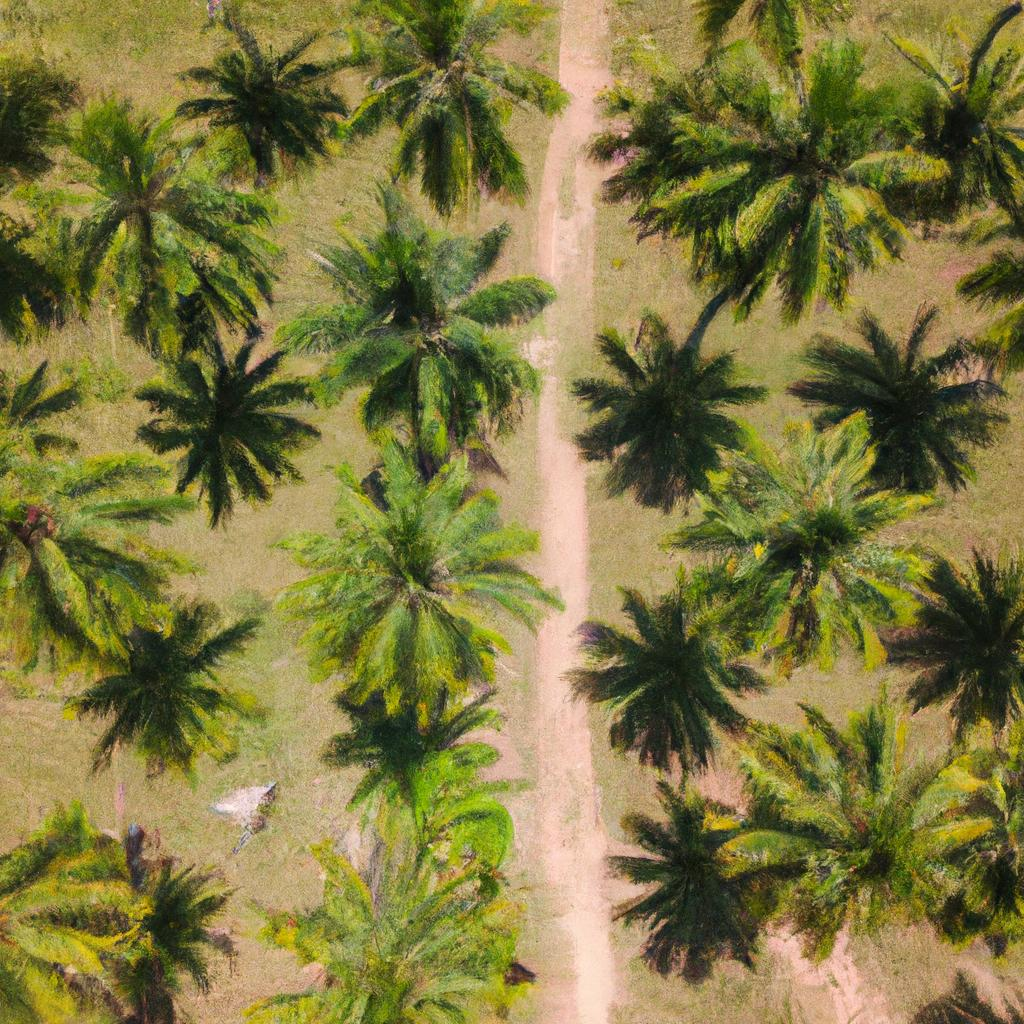coconut_tree: (650, 13, 956, 320), (732, 689, 985, 956), (328, 207, 564, 458), (304, 466, 547, 705), (53, 102, 285, 335), (338, 4, 553, 196), (721, 447, 908, 666)
